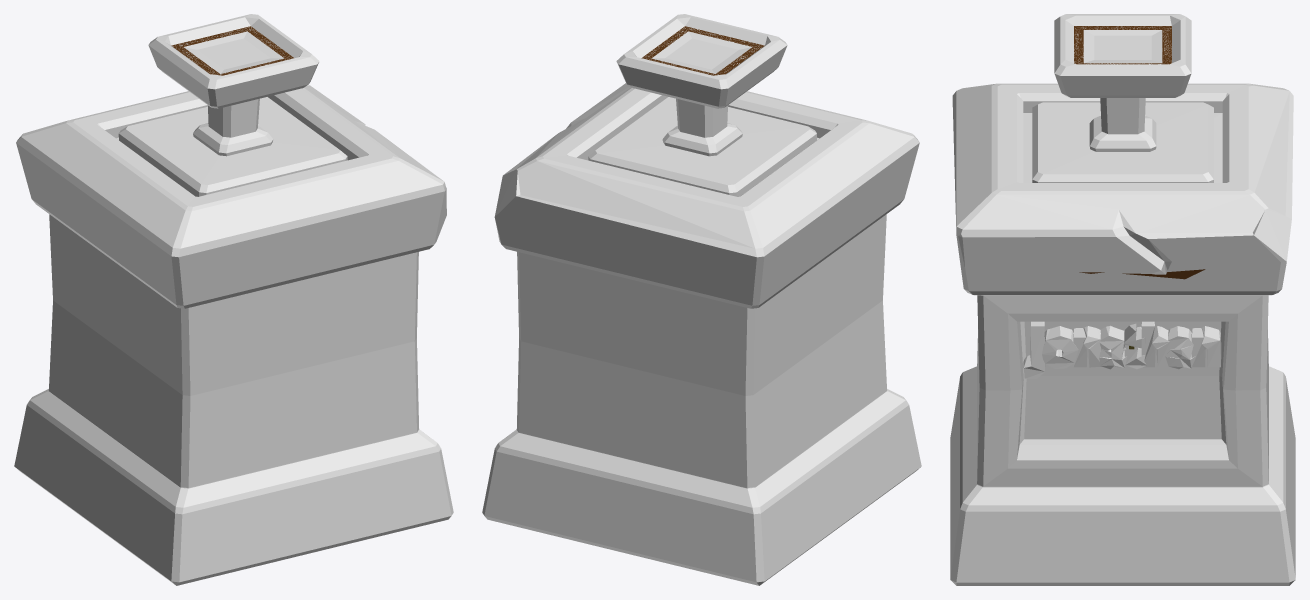
Rendered from itemstand.fbx.
3 views of the same model, side by side, from view 1: azimuth 30°, elevation 25°; view 2: azimuth 150°, elevation 25°; view 3: azimuth 270°, elevation 25° (orthographic). The views are drawn at different scales.
Parts seen in each view (by area): view 1: Cube; view 2: Cube; view 3: Cube.
Boxes of the visible parts, x1,y1,x2,y2 form: Cube: (14,14,453,585); Cube: (482,14,921,585); Cube: (950,14,1295,585).
Bounding box in the file's own units: 328 × 497 × 328.
